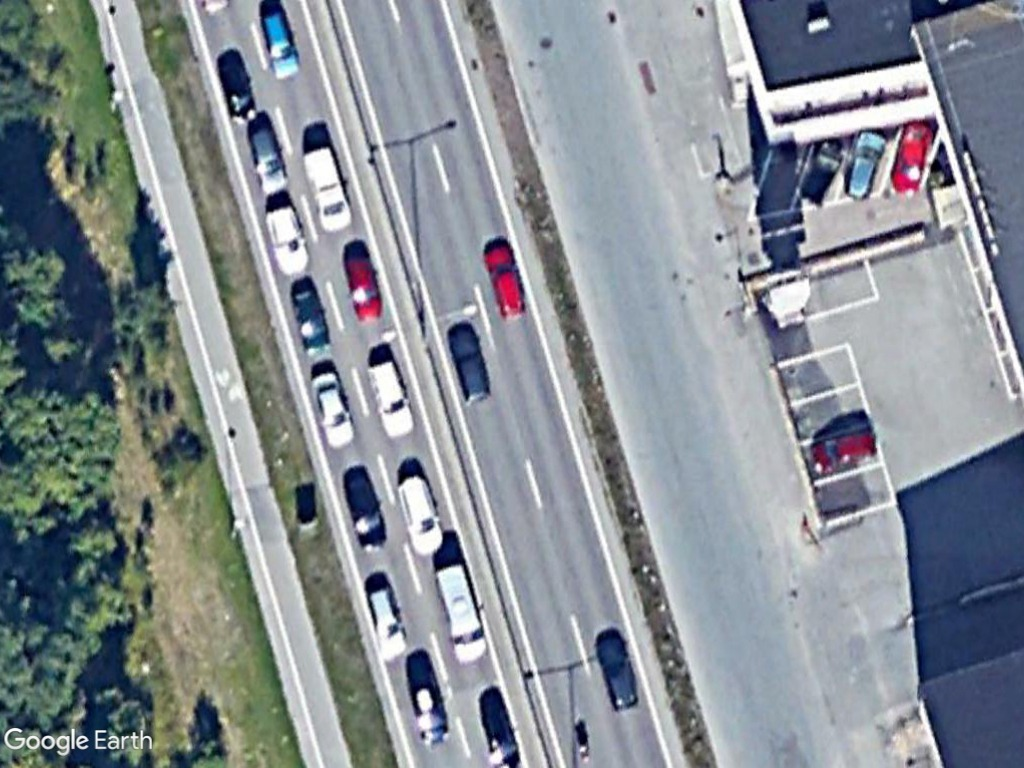car: (362, 355, 424, 445), (391, 471, 448, 557), (443, 320, 496, 412), (306, 363, 359, 452), (593, 629, 645, 719), (259, 200, 318, 279), (886, 116, 939, 203), (344, 467, 395, 557), (483, 239, 536, 323), (361, 580, 411, 669), (213, 51, 265, 131), (806, 426, 883, 478), (282, 276, 332, 356), (838, 127, 890, 203), (243, 117, 291, 199), (256, 5, 305, 85), (337, 247, 384, 323)
van: (430, 558, 491, 667), (296, 140, 357, 239)
